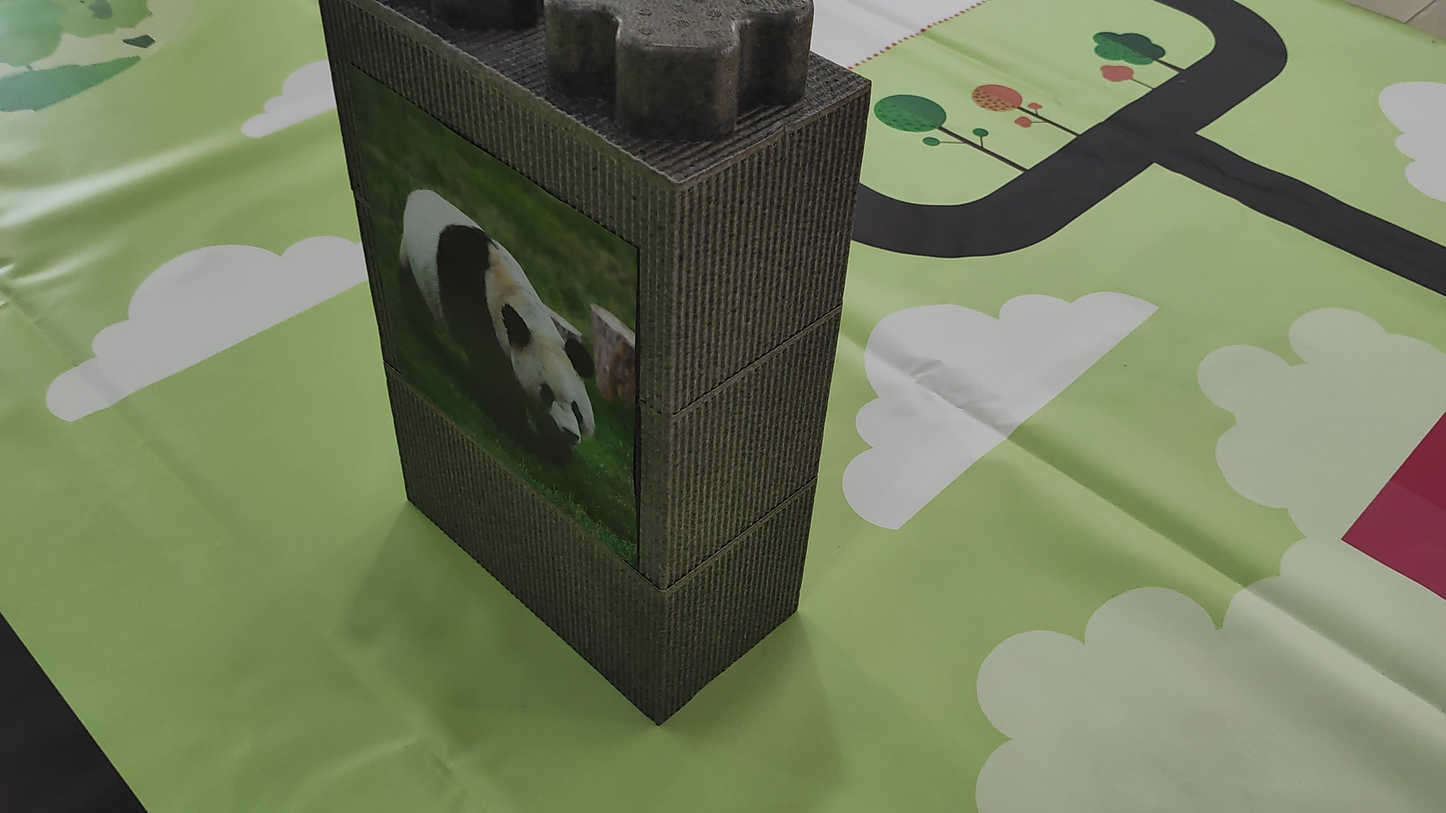panda: (380, 160, 616, 454)
